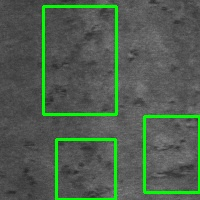rolled-in_scale: (43, 6, 116, 114), (144, 116, 199, 192), (56, 139, 115, 199)
